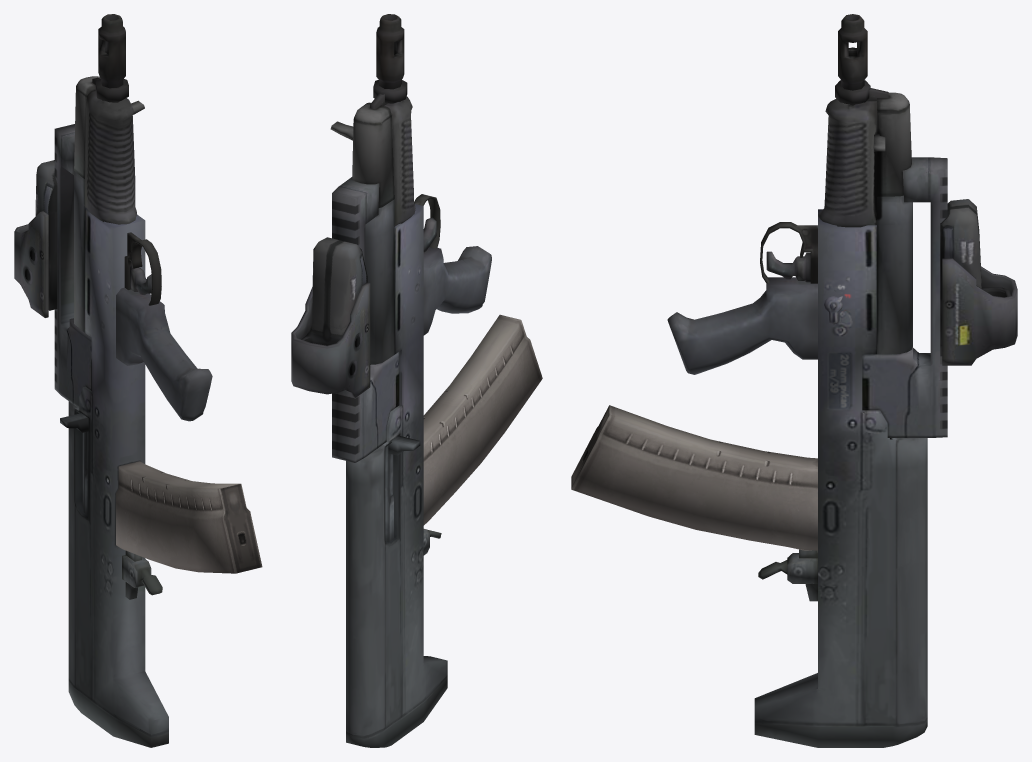
The model's file is assaultrifle3_6_2.fbx.
3 renders of one model, left to right at view 1: azimuth 30°, elevation 25°; view 2: azimuth 150°, elevation 25°; view 3: azimuth 270°, elevation 25°, orthographic. The views are drawn at different scales.
Visible parts, largest first — view 1: gun_supersmooth.001; view 2: gun_supersmooth.001; view 3: gun_supersmooth.001.
Boxes of the visible parts, x1=… form: gun_supersmooth.001: x1=14, y1=14, x2=262, y2=747; gun_supersmooth.001: x1=291, y1=14, x2=542, y2=747; gun_supersmooth.001: x1=571, y1=14, x2=1017, y2=747.
Size of the model in its own units: 906 by 7560 by 4233.
